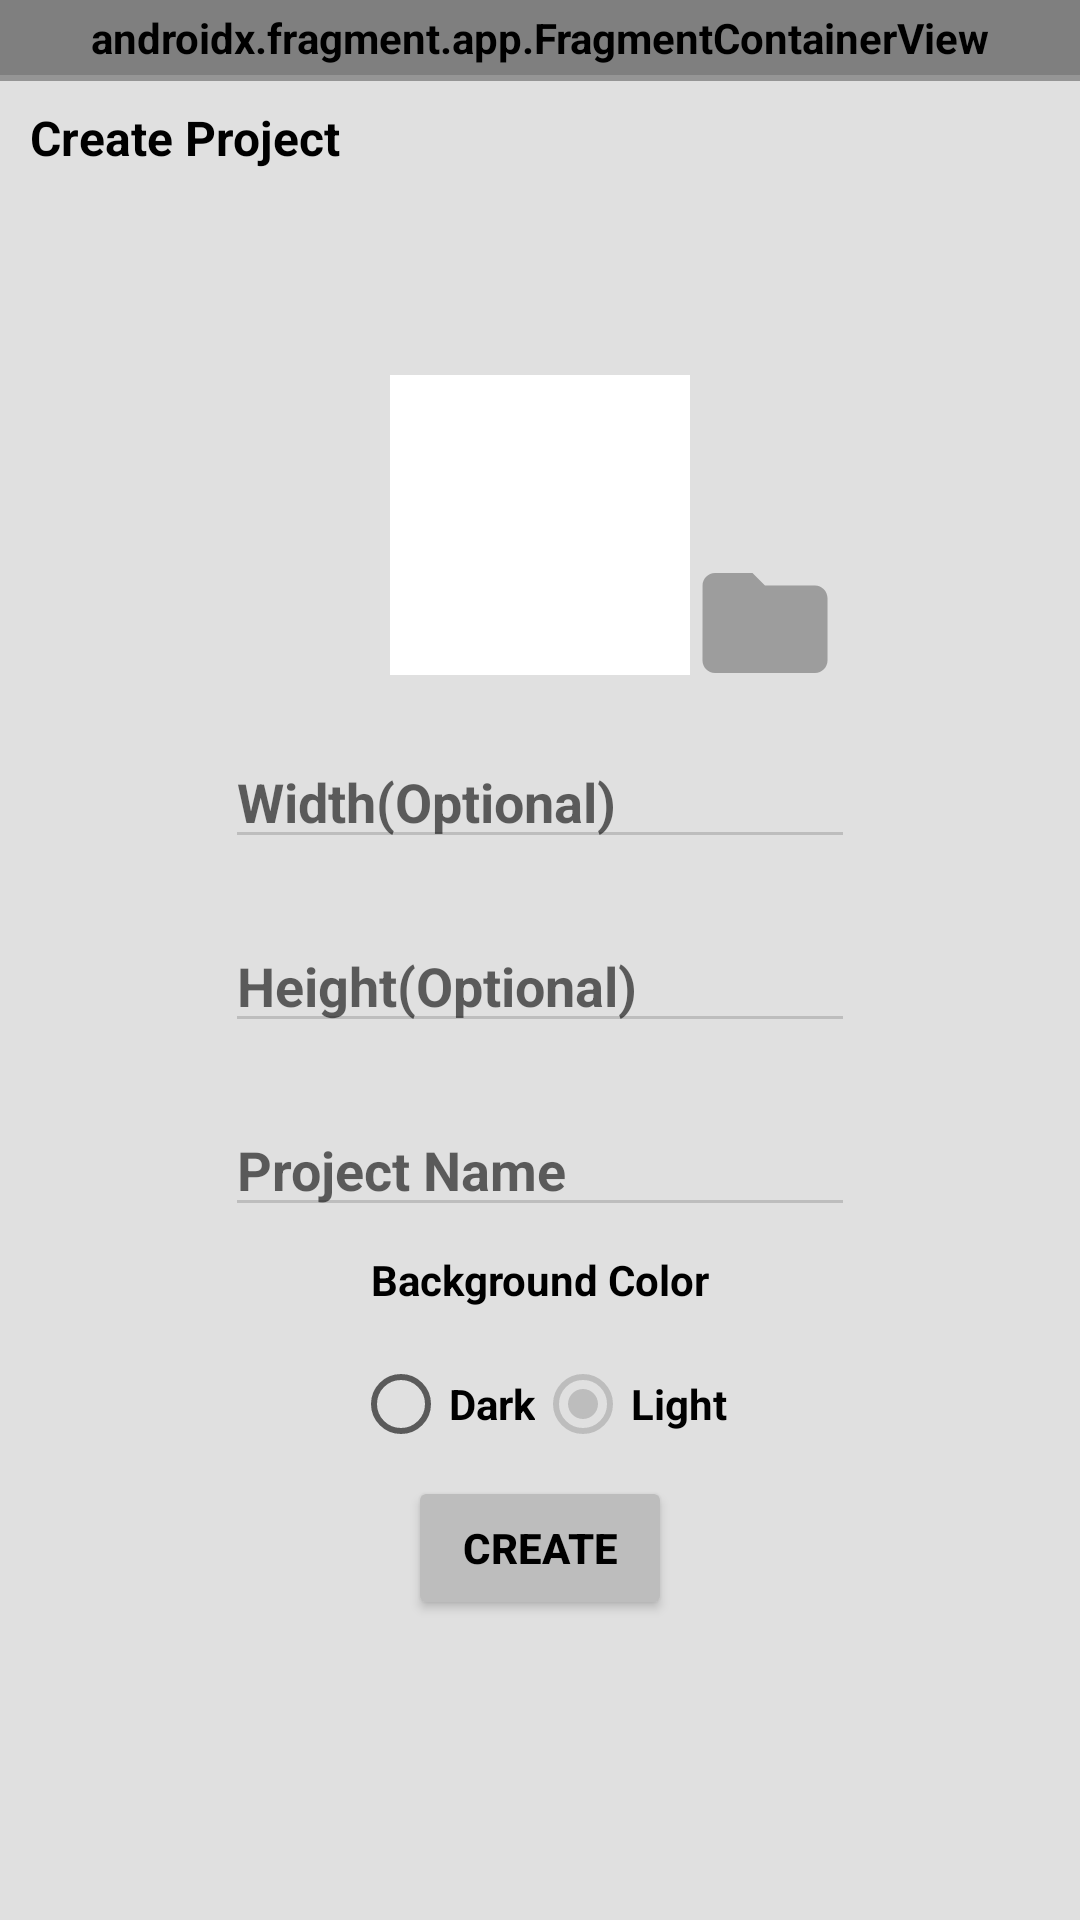

Point at icon controls on the screen. Image size 1080px×1920px, points as (x,y).
import: (765,623)
